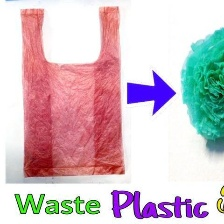plastic_bag: (15, 3, 128, 180)
